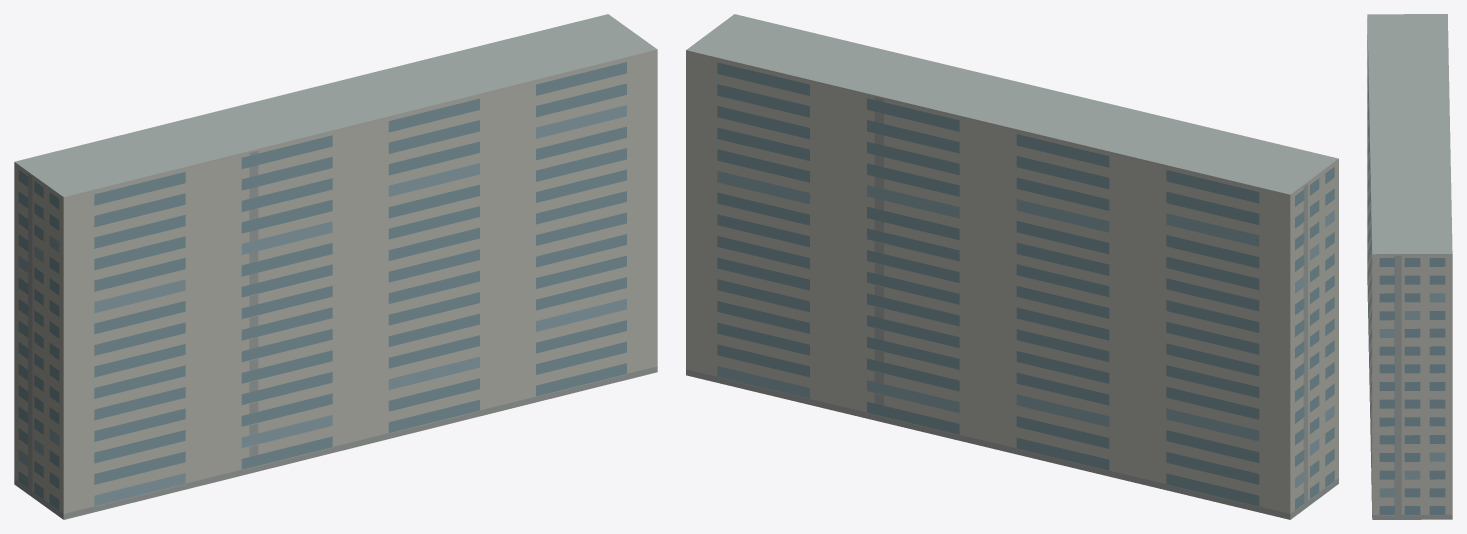
File: residential-42fba9ca-ae2d-4222-aa6a-417dd632847f.glb
3 views of the same model, side by side, from view 1: azimuth 30°, elevation 25°; view 2: azimuth 150°, elevation 25°; view 3: azimuth 270°, elevation 25° (orthographic). The views are drawn at different scales.
Visible parts, largest first — view 1: residential-42fba9ca-ae2d-4222-aa6a-417dd632847f.tmp; view 2: residential-42fba9ca-ae2d-4222-aa6a-417dd632847f.tmp; view 3: residential-42fba9ca-ae2d-4222-aa6a-417dd632847f.tmp.
Part boxes in pixels (x1,y1,x2,y2): residential-42fba9ca-ae2d-4222-aa6a-417dd632847f.tmp: (14, 14, 657, 519); residential-42fba9ca-ae2d-4222-aa6a-417dd632847f.tmp: (686, 14, 1338, 519); residential-42fba9ca-ae2d-4222-aa6a-417dd632847f.tmp: (1367, 14, 1452, 519).
Bounding box in the file's own units: 77.52 × 40 × 11.62.
